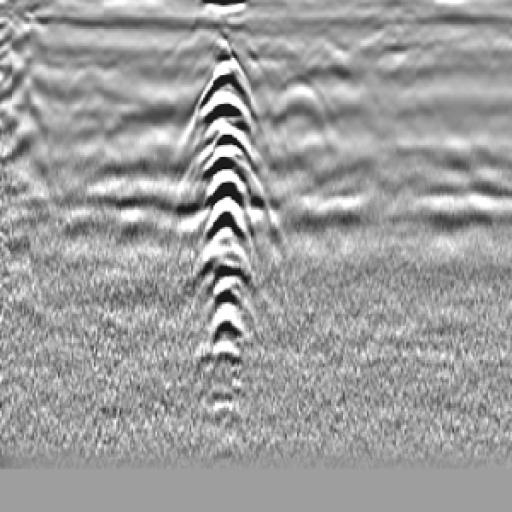metalic: (187, 28, 261, 413)
nonmetalic: (246, 51, 366, 185)
